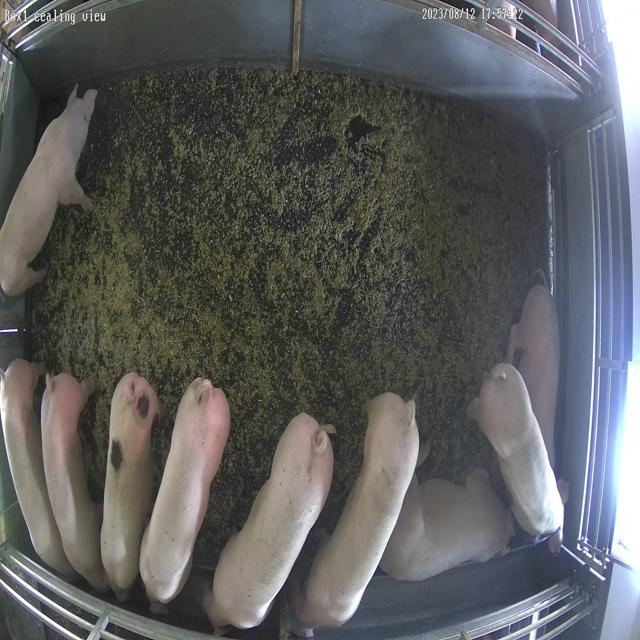Dirt: (34, 66, 546, 556)
Pig: (294, 394, 420, 628), (208, 415, 334, 630), (139, 379, 230, 606), (0, 86, 97, 296), (472, 364, 571, 554), (0, 359, 75, 578), (40, 374, 109, 592), (381, 470, 515, 582), (100, 373, 159, 601), (507, 284, 560, 466)
